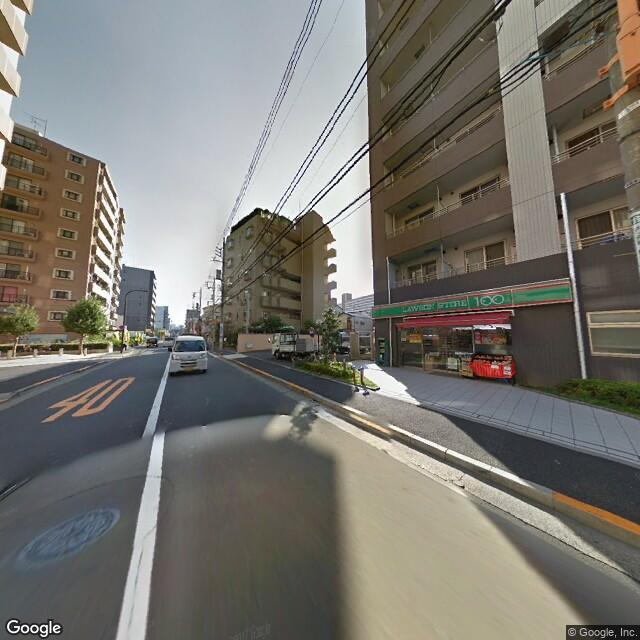lawson: (371, 272, 574, 321)
